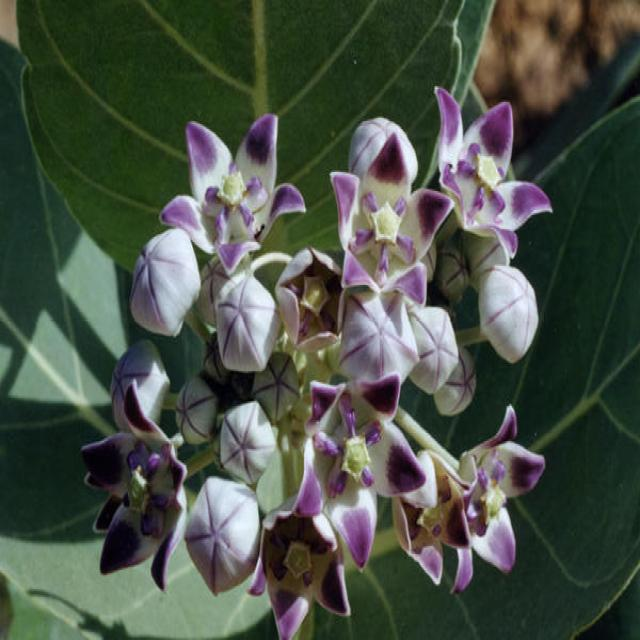Poisonous-Calatropis: (18, 24, 613, 639)
